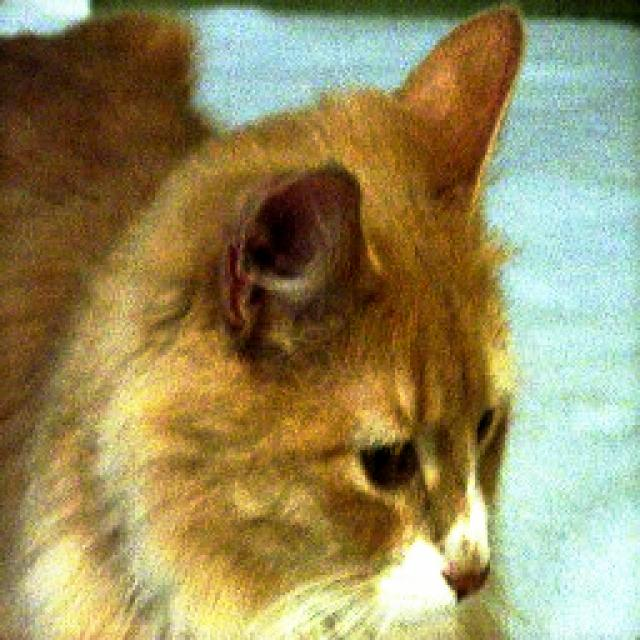cat: (0, 3, 568, 625)
